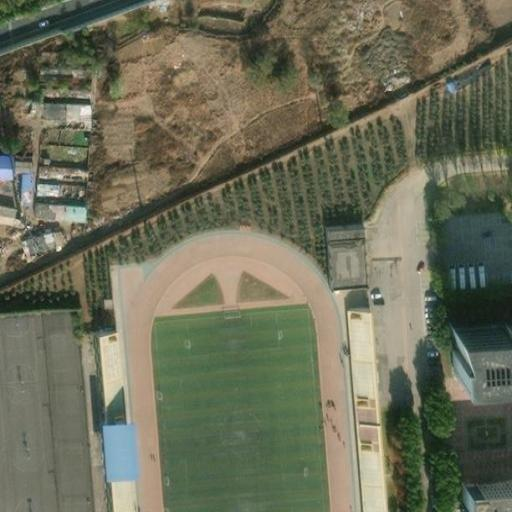building: (346, 306, 386, 511), (453, 325, 511, 386), (321, 221, 362, 285), (101, 422, 138, 485), (39, 63, 94, 96), (34, 93, 93, 116), (34, 190, 85, 215), (39, 113, 92, 133), (20, 233, 57, 259), (2, 147, 22, 193), (34, 214, 81, 230), (38, 156, 88, 171), (35, 177, 82, 191)
